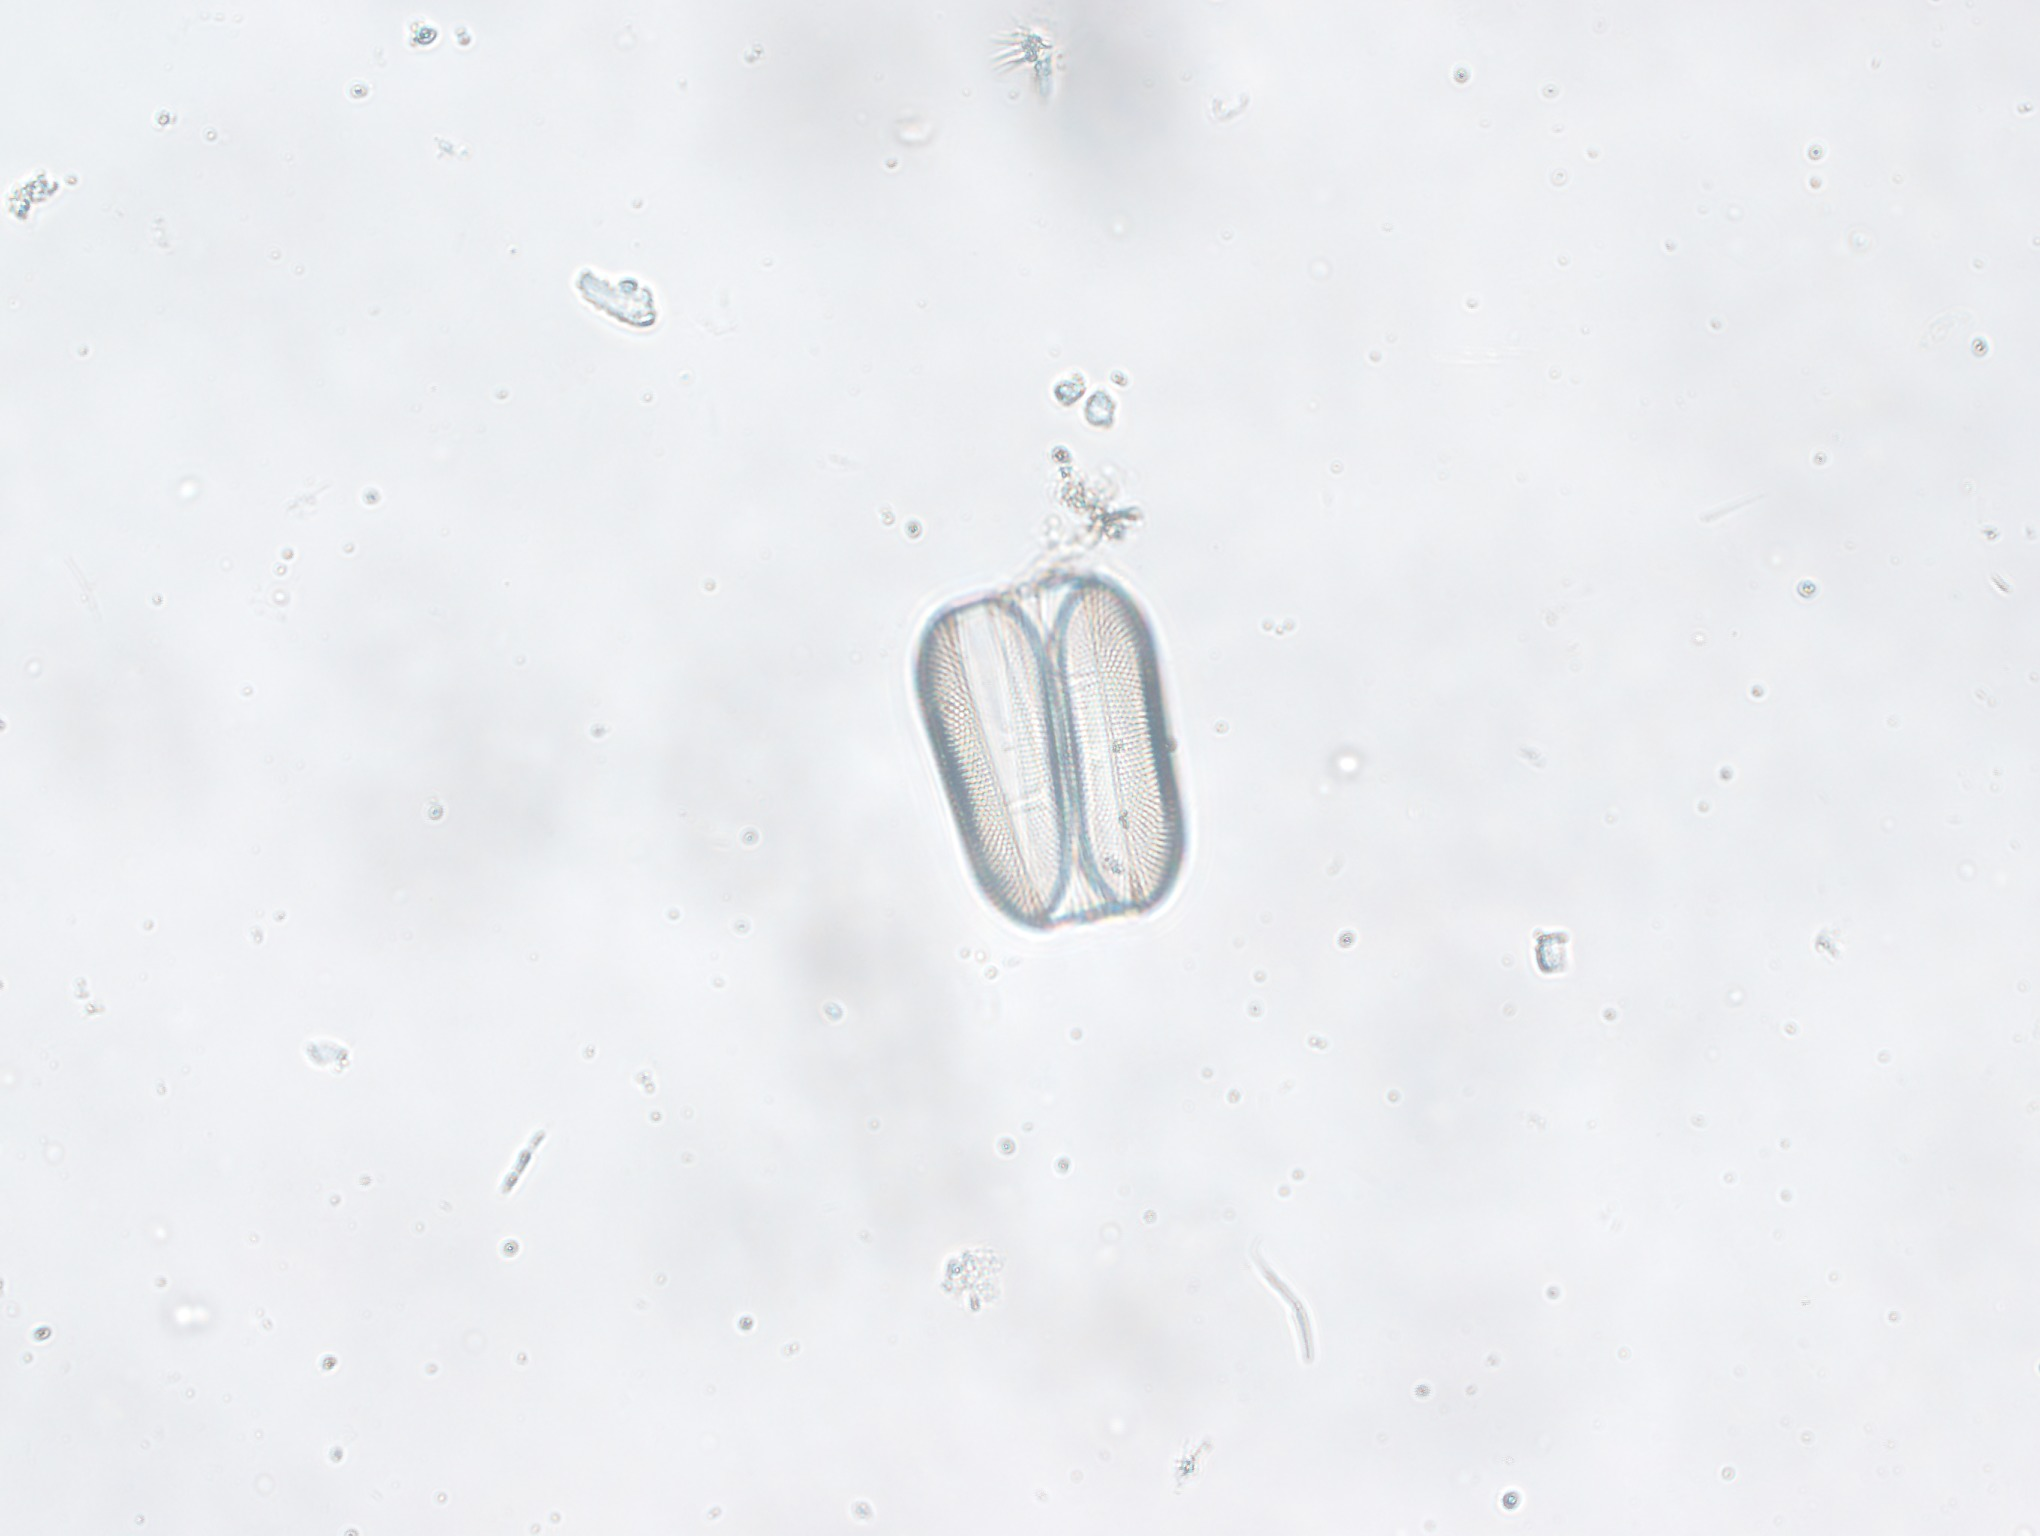coscinodiscus flank: (889, 571, 1195, 931)
